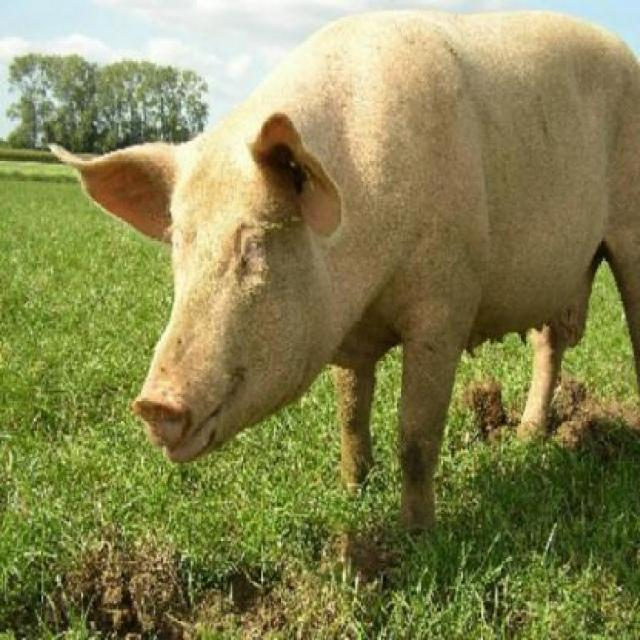pig: (44, 6, 638, 539)
